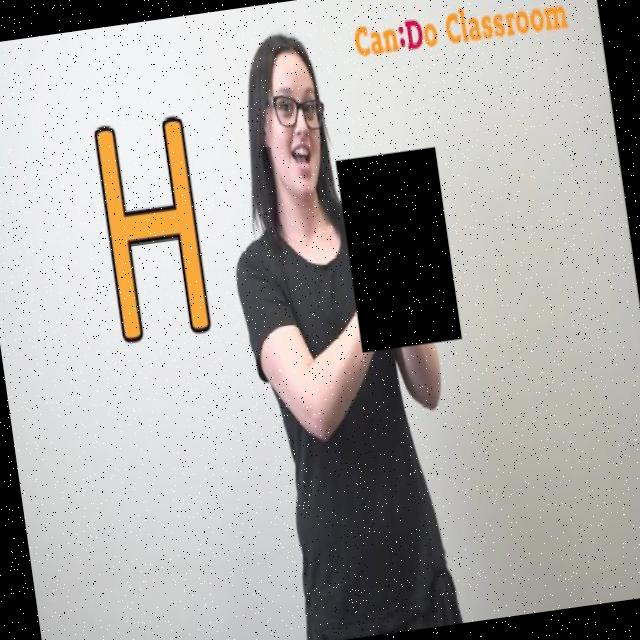H: (336, 147, 463, 353)
